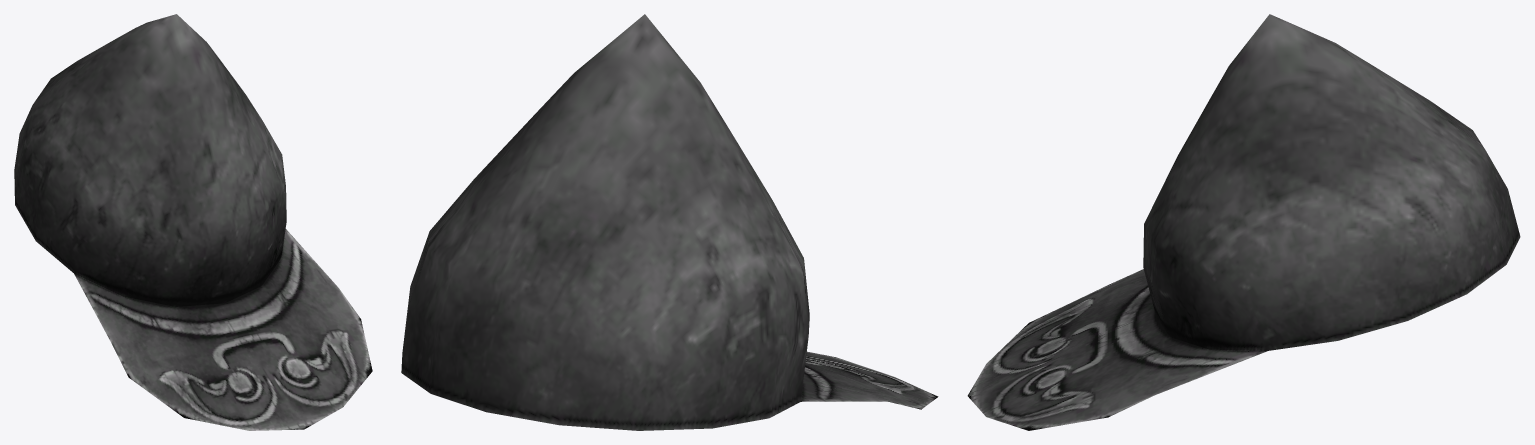
Rendered from helm_celt_helmet_meyrick.glb.
The picture shows the model from 3 angles, left to right: view 1: azimuth 30°, elevation 25°; view 2: azimuth 150°, elevation 25°; view 3: azimuth 270°, elevation 25°; orthographic projection. The views are drawn at different scales.
Parts seen in each view (by area): view 1: helm_celt_helmet_meyrick_part0; view 2: helm_celt_helmet_meyrick_part0; view 3: helm_celt_helmet_meyrick_part0.
Part boxes in pixels (left/top/right/bottom): helm_celt_helmet_meyrick_part0: left=14, top=14, right=372, bottom=430; helm_celt_helmet_meyrick_part0: left=401, top=14, right=938, bottom=430; helm_celt_helmet_meyrick_part0: left=967, top=14, right=1520, bottom=430.
Size of the model in its own units: 0.4561 by 0.6042 by 0.7929.
Materials: 1 (1 with a texture image).
